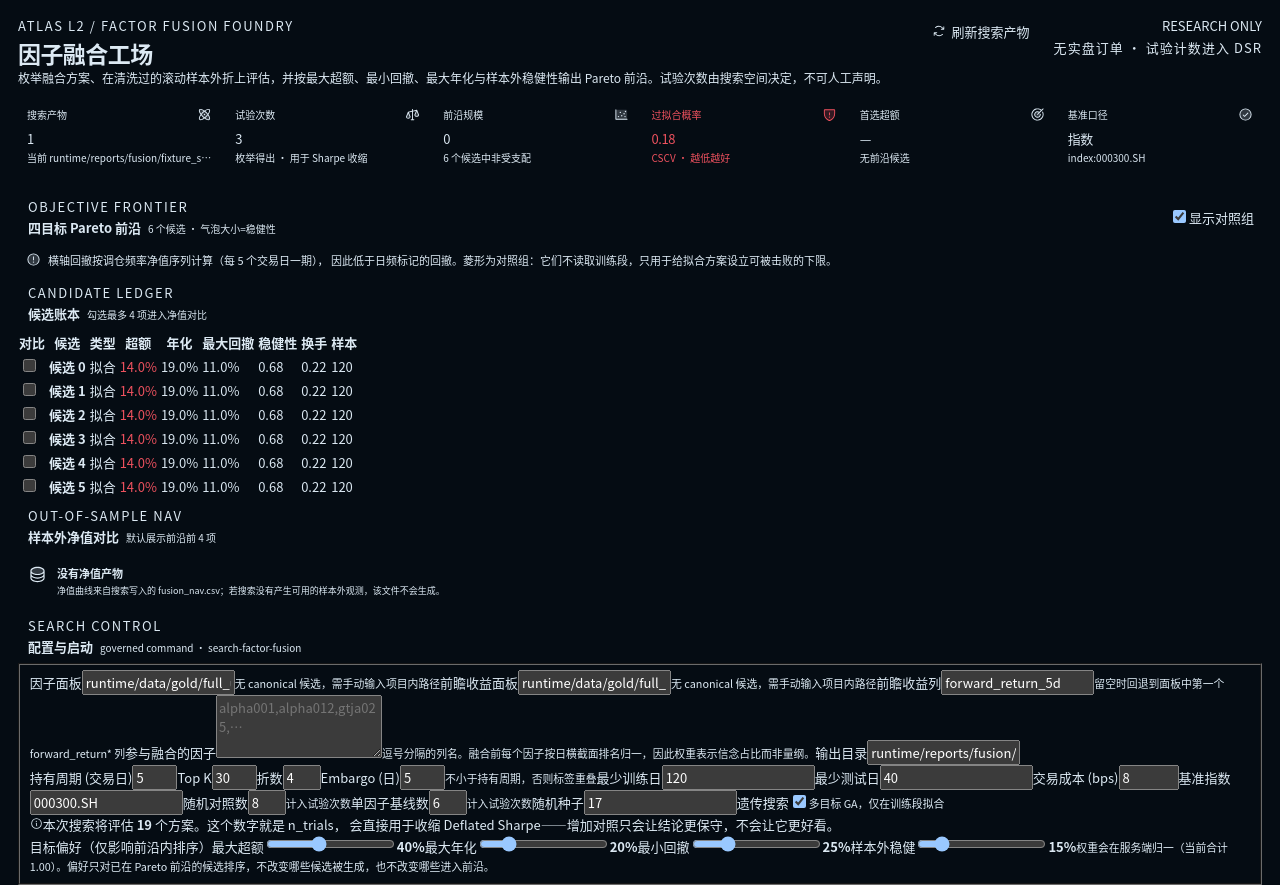
Test case: comparison selection is capped at four candidates
What coordinates should you click on to do the following:
click the checkbox named "对比 候选 0"
I would click on:
 (30, 366)
Its box is [23,359,36,372].
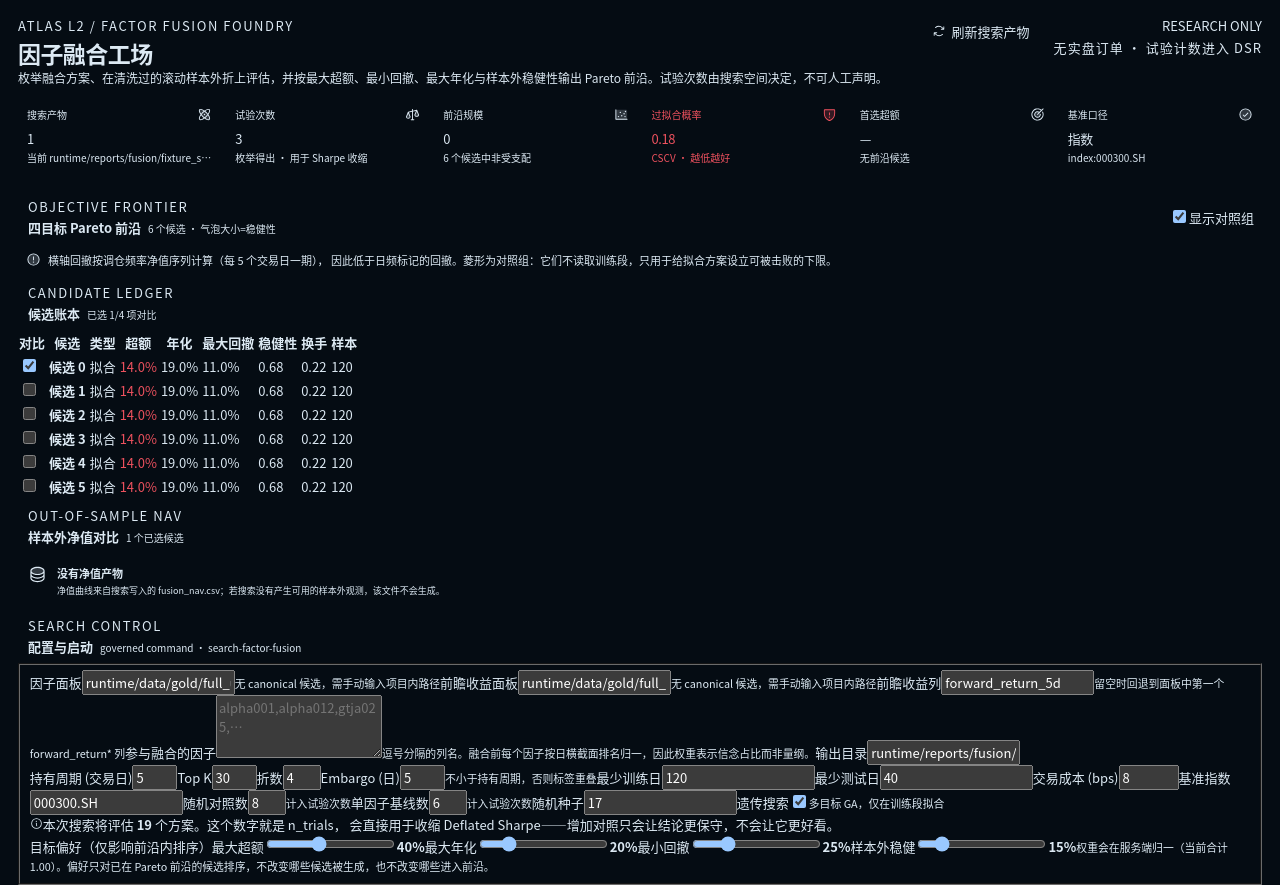
What coordinates should you click on to do the following:
click the checkbox named "对比 候选 1"
I would click on:
 (30, 390)
Its box is [23,383,36,396].
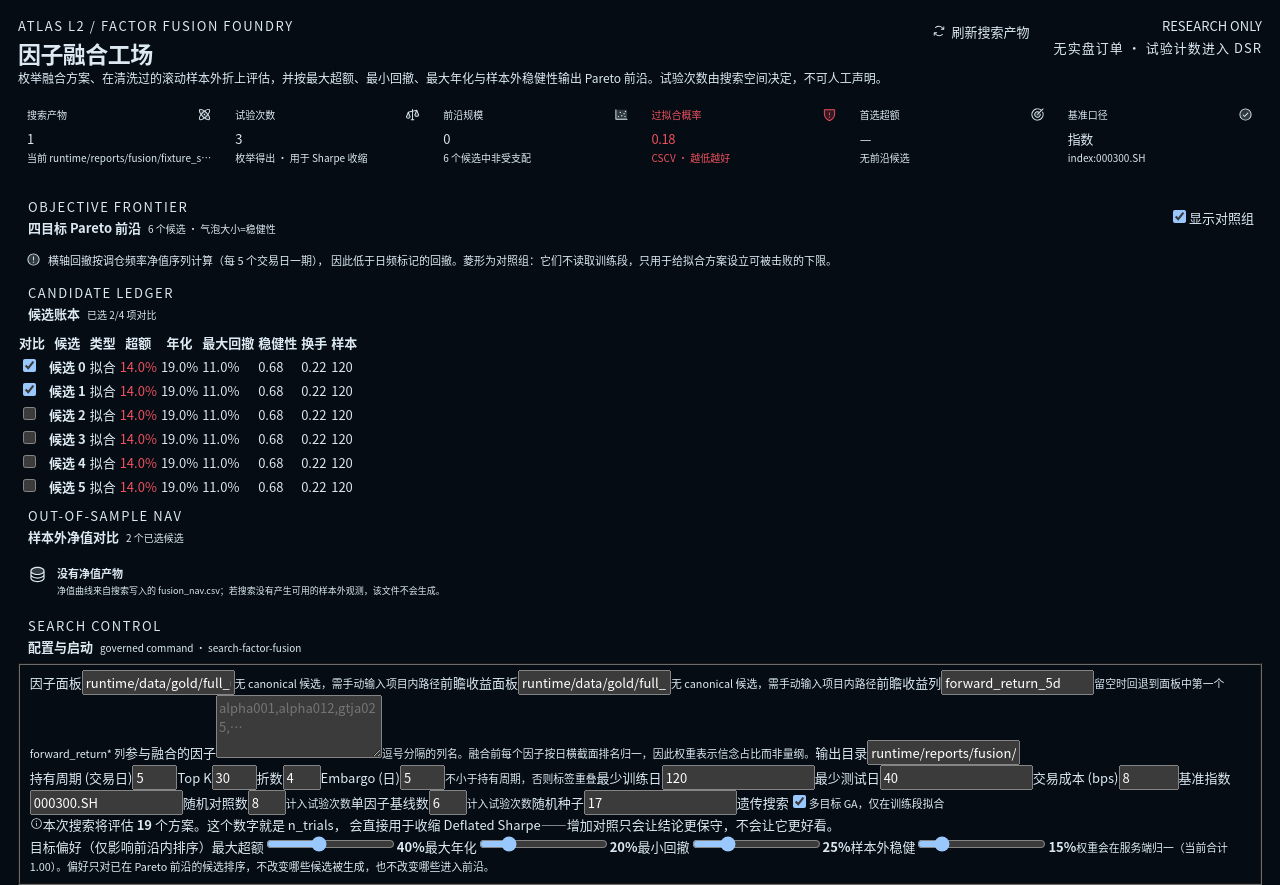
What coordinates should you click on to do the following:
click the checkbox named "对比 候选 2"
I would click on:
 (30, 414)
Its box is [23,407,36,420].
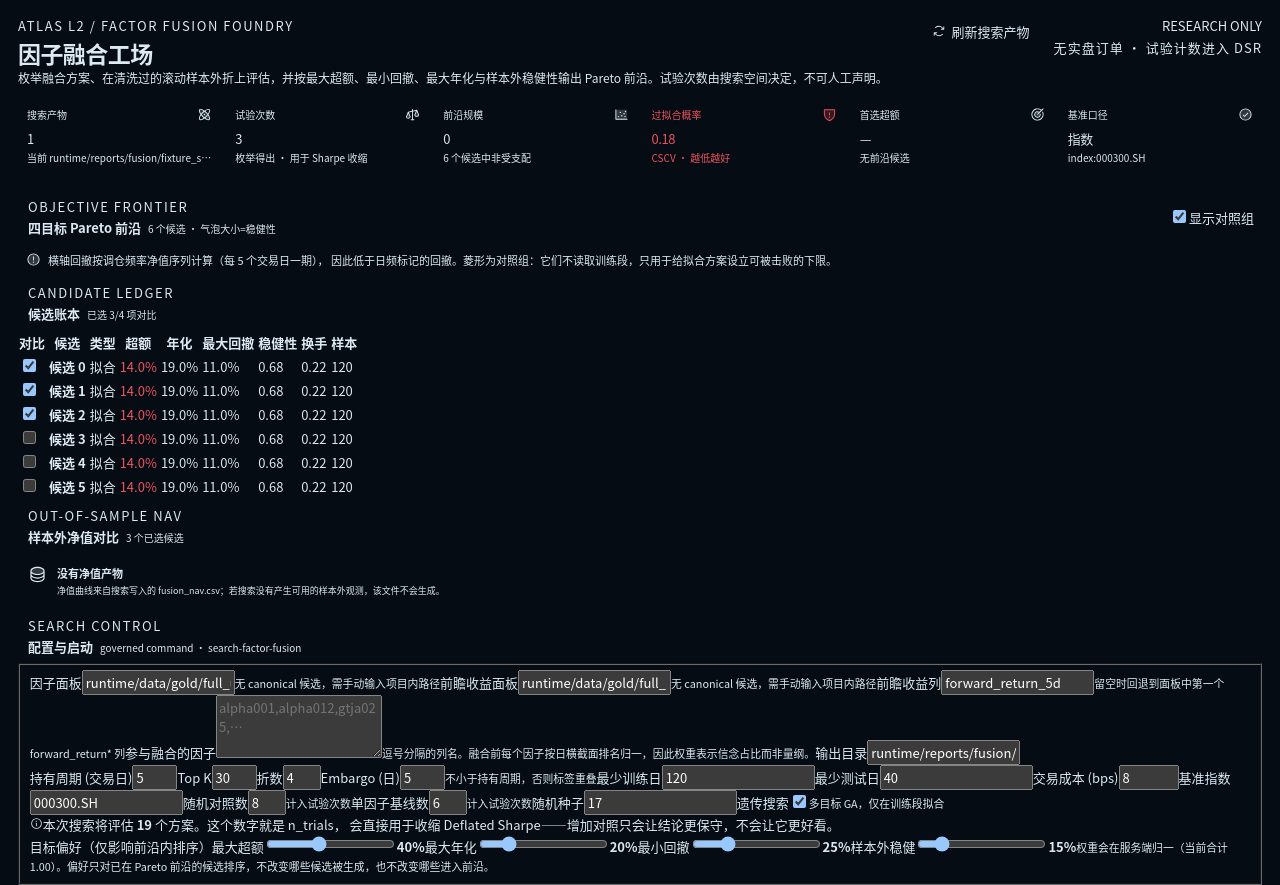
What coordinates should you click on to do the following:
click the checkbox named "对比 候选 3"
I would click on:
 (30, 438)
Its box is [23,431,36,444].
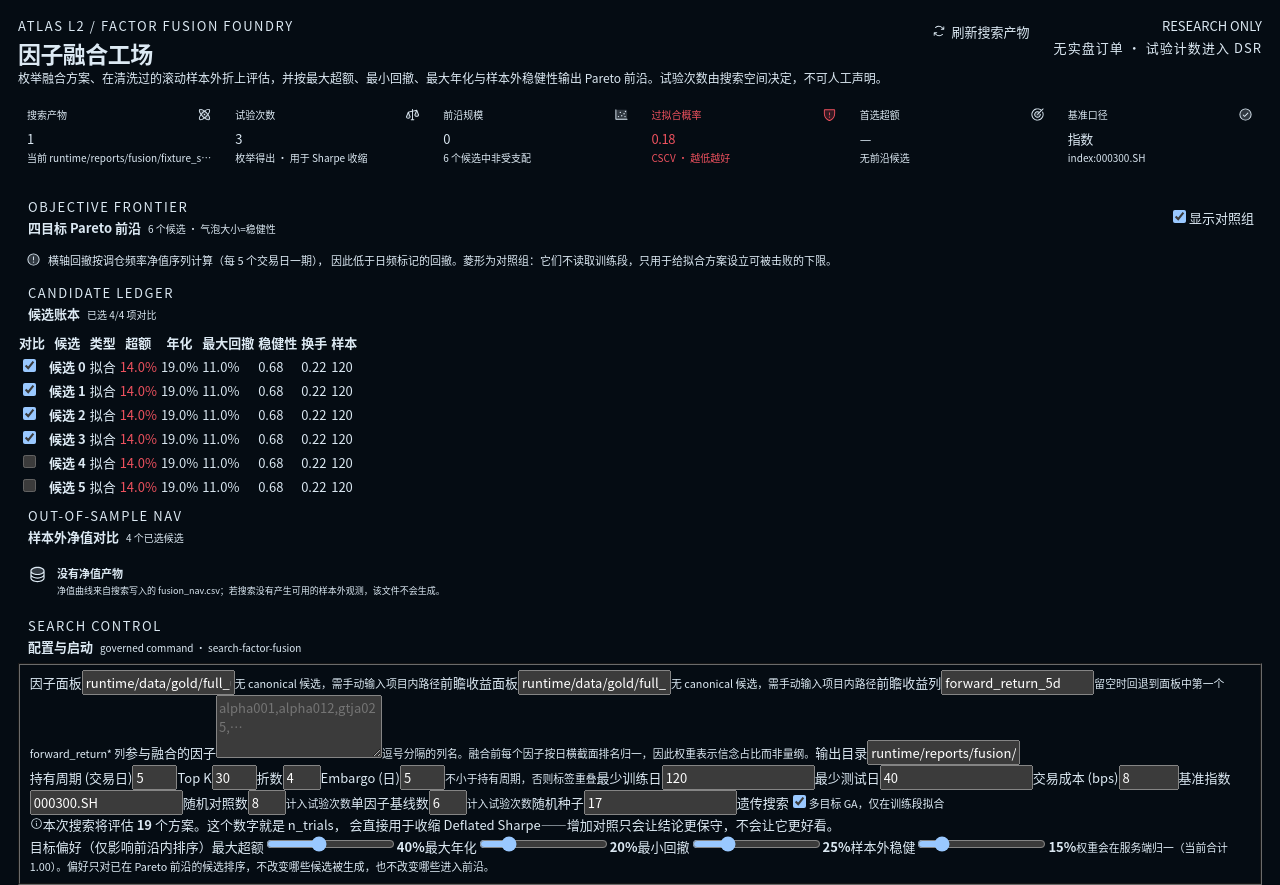
Check: the checkbox named "对比 候选 0" is enabled, box [23,359,36,372]
Check: the checkbox named "对比 候选 4" is disabled, box [23,455,36,468]
